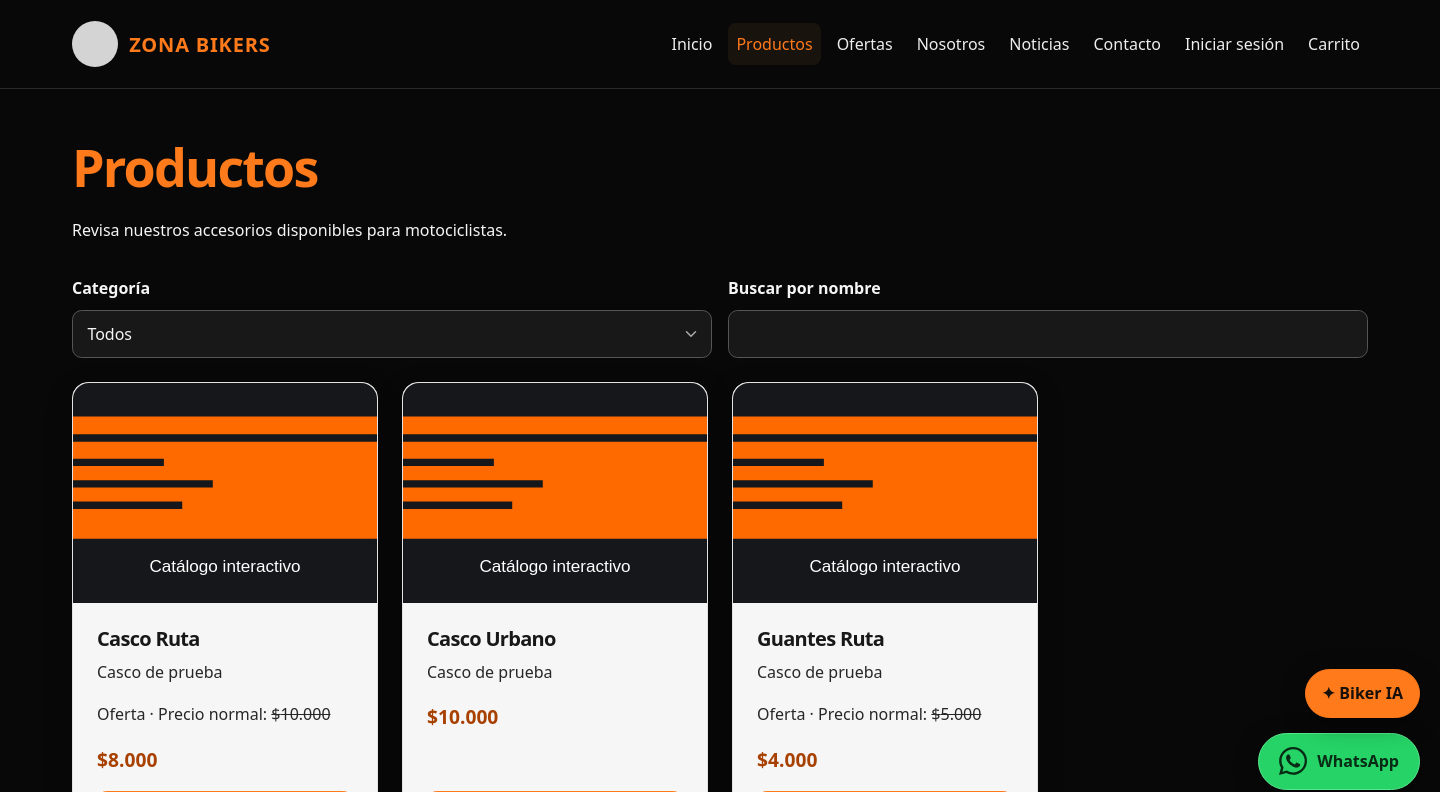
Test case: Categorías públicas y ofertas › abre Ofertas desde el menú y permite combinar categoría y búsqueda
Expected: the heading "Casco Urbano" is shown, [427,625,556,652]
Click the link "Ofertas" at (865, 44), box [837,33,893,55]
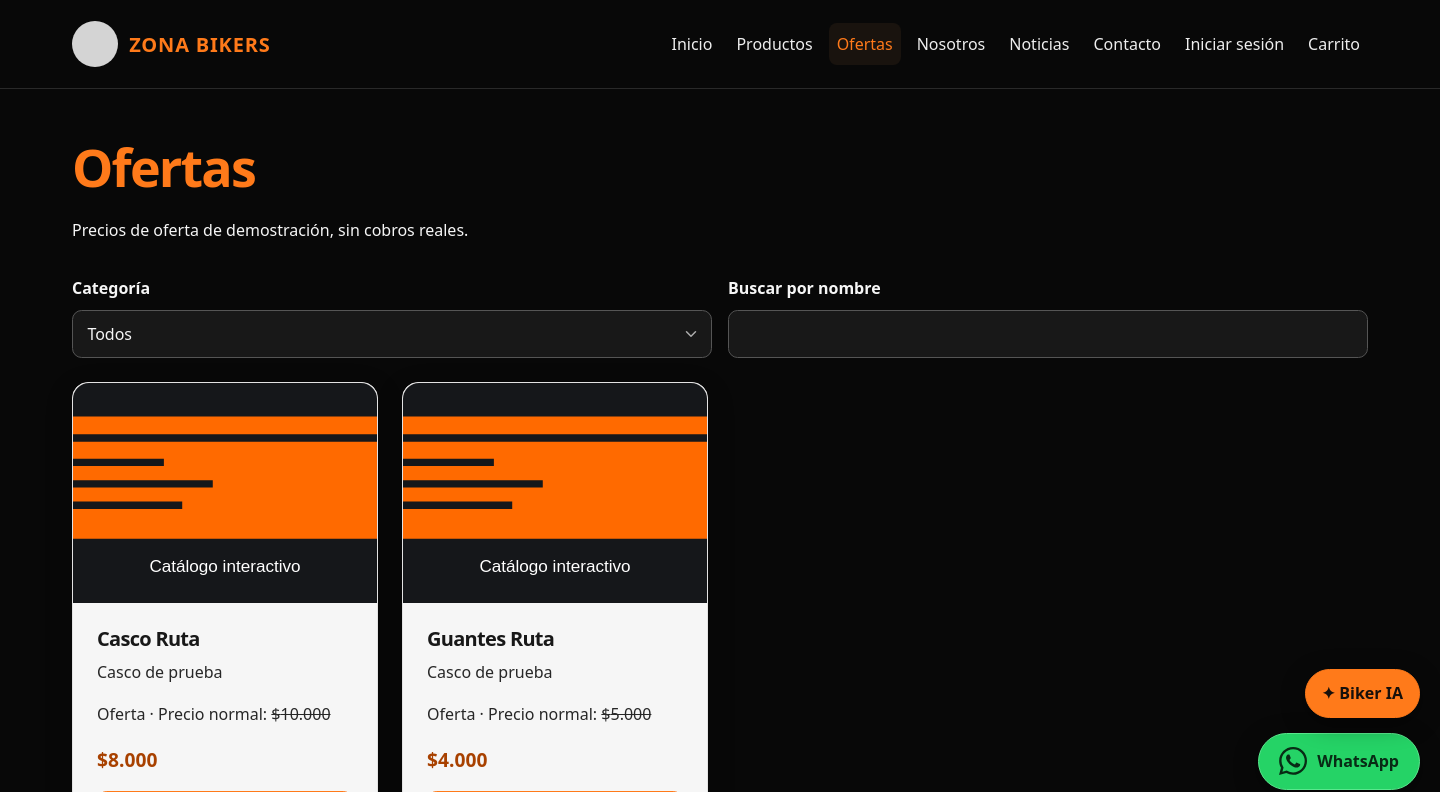
Expected: the heading "Ofertas" is shown, [72,131,255,202]
Expected: the heading "Casco Urbano" is gone
Select "guantes" in the dropdown labelled "Categoría" at (392, 334), box [72,310,712,358]
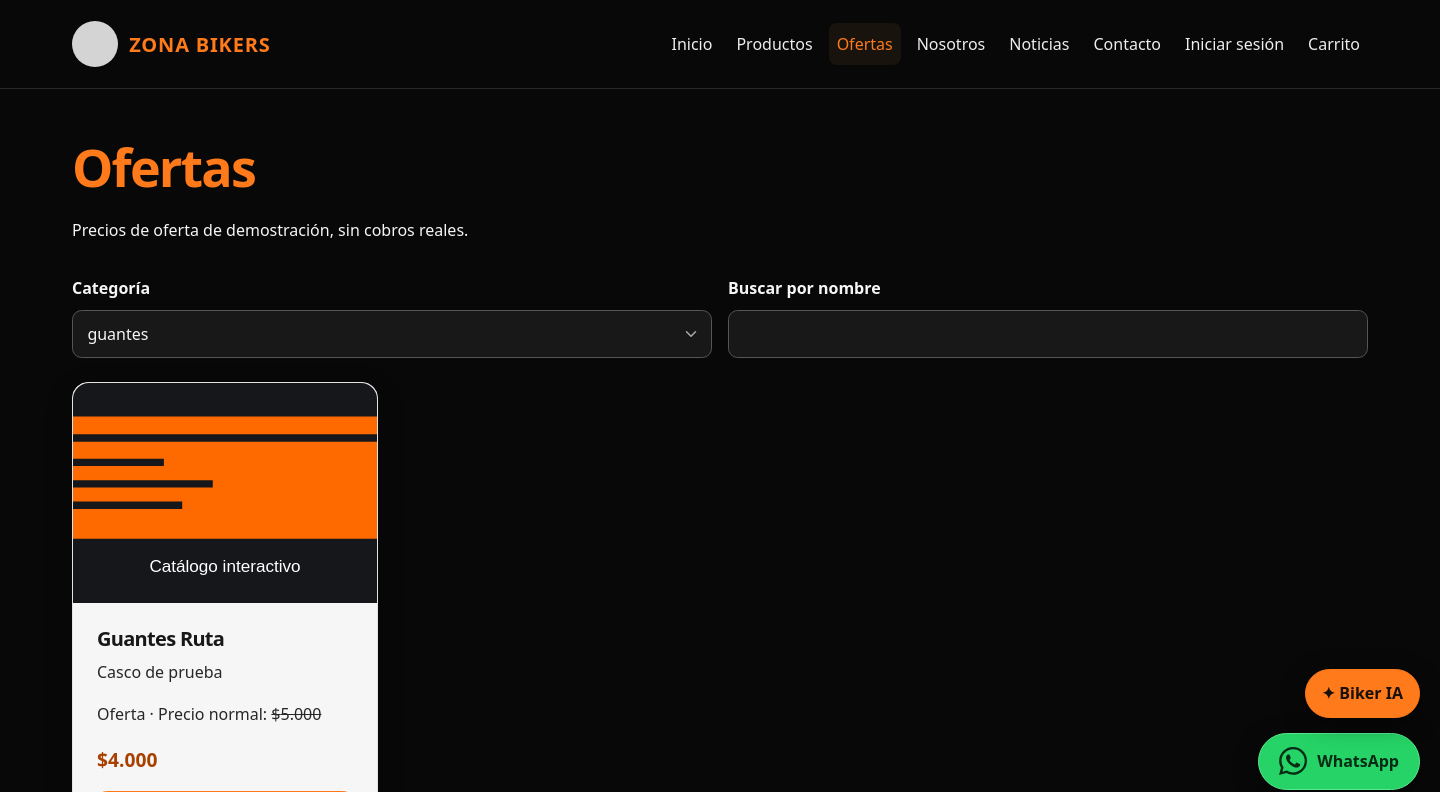
Type "ruta" into the search field labelled "Buscar por nombre" at (1048, 334), box [728,310,1368,358]
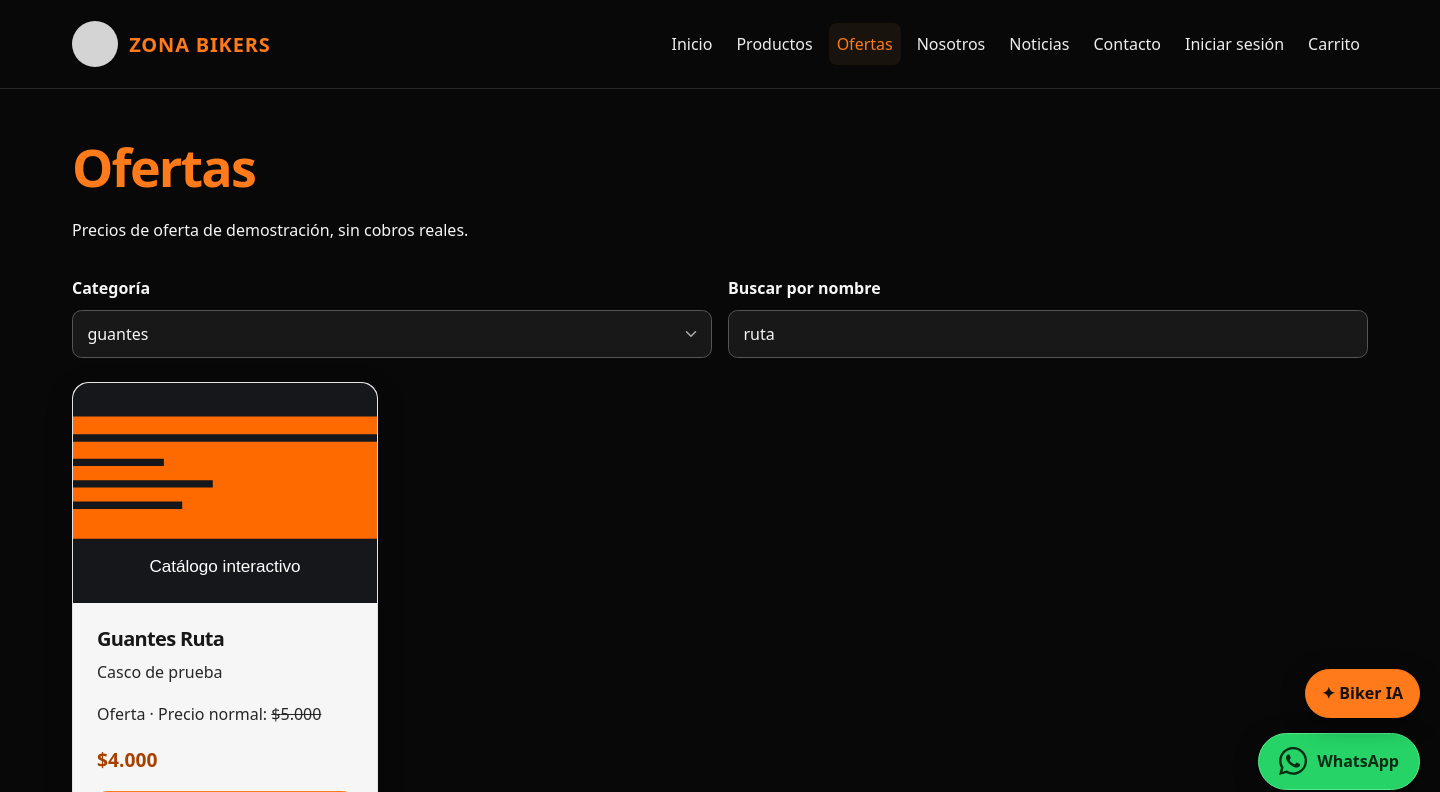
Expected: the text "$4.000" is shown, [97,746,157,773]
Replace the text in the search field labelled "Buscar por nombre" with "casco" at (1048, 334), box [728,310,1368,358]
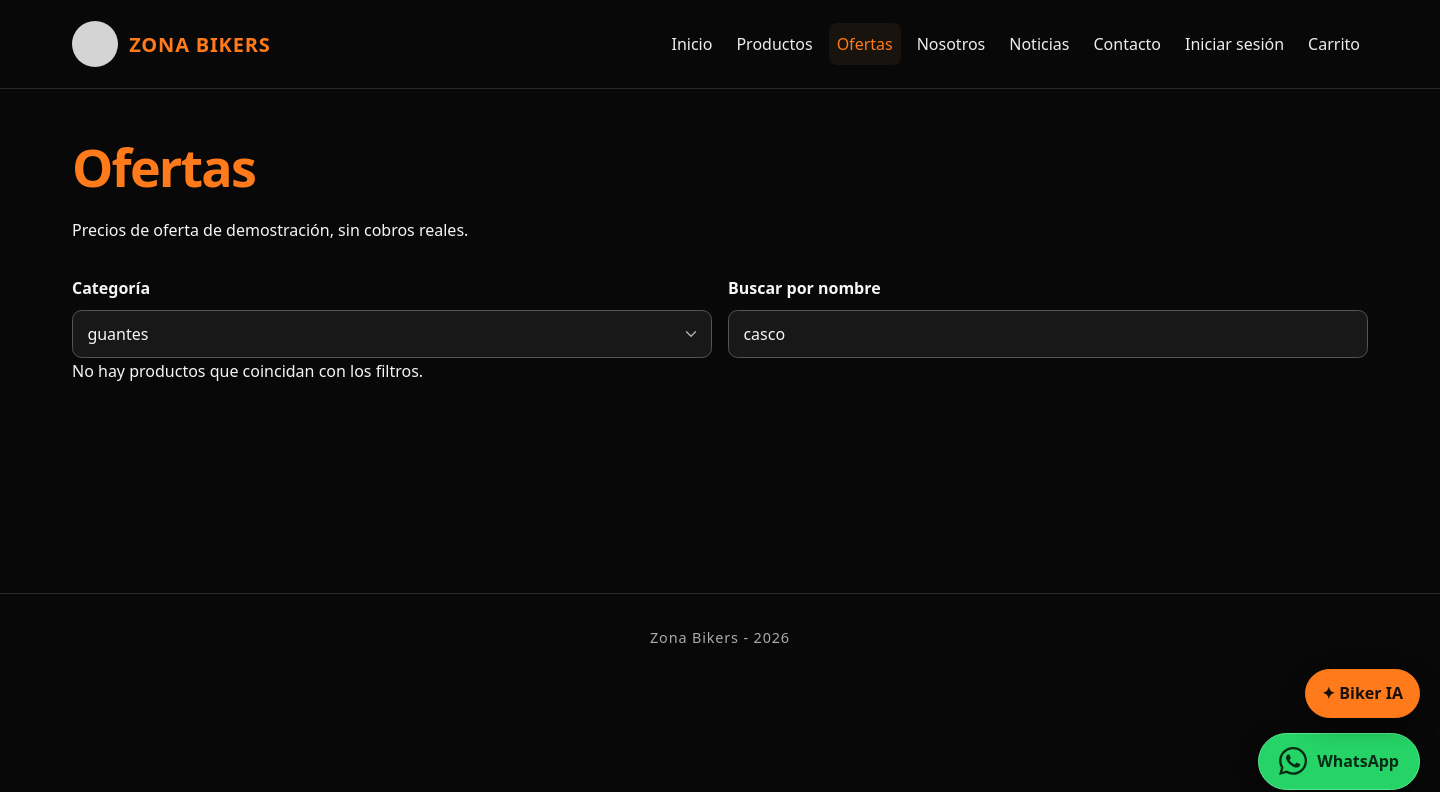
Expected: the message "No hay productos que coincidan con los filtros." is shown, [72,360,423,382]
